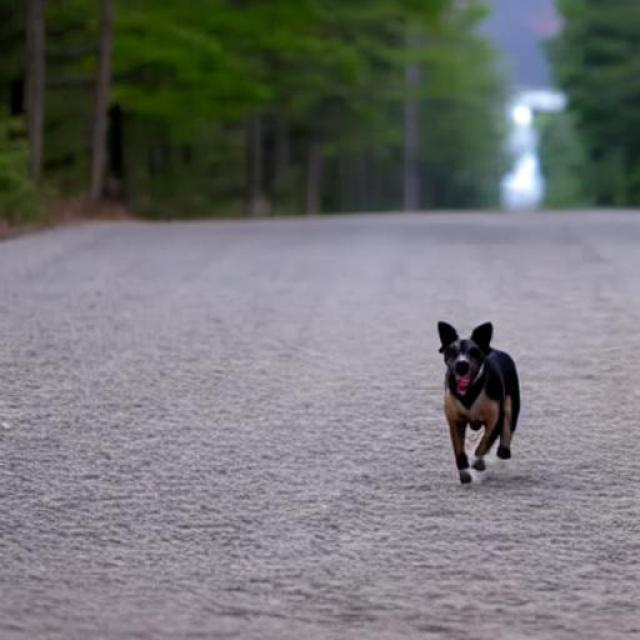Dog: (437, 320, 520, 486)
